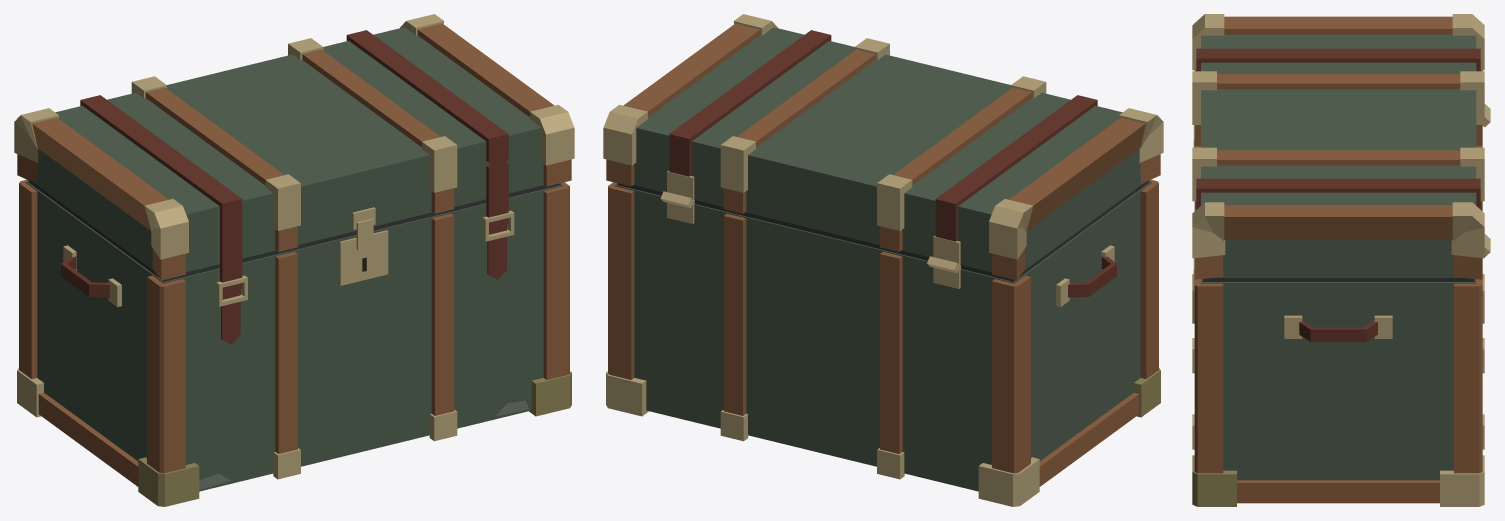
Rendered from travelling-trunk-2616ab.glb.
3 views of the same model, side by side, from view 1: azimuth 30°, elevation 25°; view 2: azimuth 150°, elevation 25°; view 3: azimuth 270°, elevation 25° (orthographic).
Parts seen in each view (by area): view 1: trunk-body, lid-mesh; view 2: trunk-body, lid-mesh; view 3: lid-mesh, trunk-body.
Boxes of the visible parts, x1,y1,x2,y2 form: trunk-body: (17, 179, 571, 506); lid-mesh: (14, 14, 574, 293); trunk-body: (606, 179, 1160, 506); lid-mesh: (603, 14, 1163, 280); lid-mesh: (1192, 14, 1490, 279); trunk-body: (1192, 125, 1484, 506).
Bounding box in the file's own units: 0.954 × 0.604 × 0.561.
